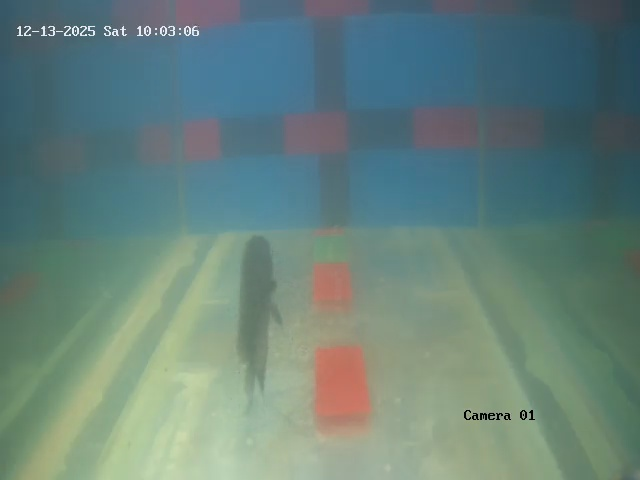fish: (231, 240, 288, 367)
